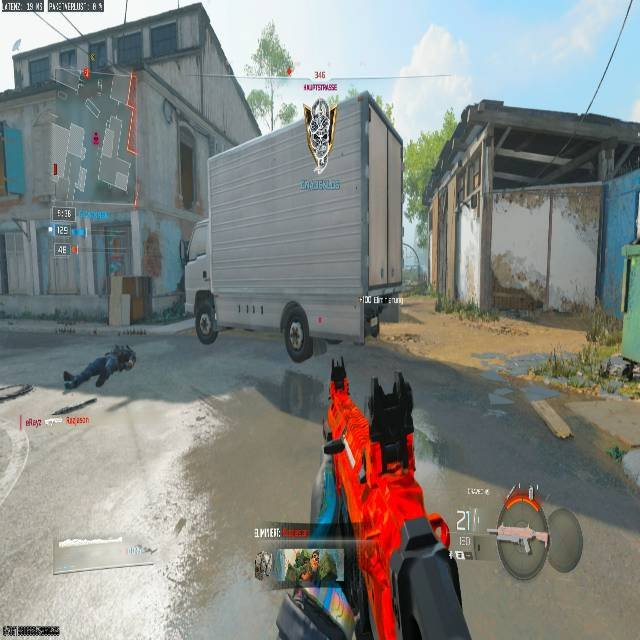player: (273, 549, 347, 640), (193, 284, 219, 344), (251, 549, 271, 582)
